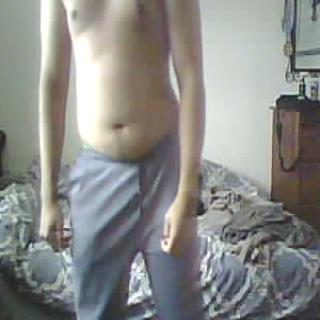Blue Sweatpants: (67, 137, 204, 320)
